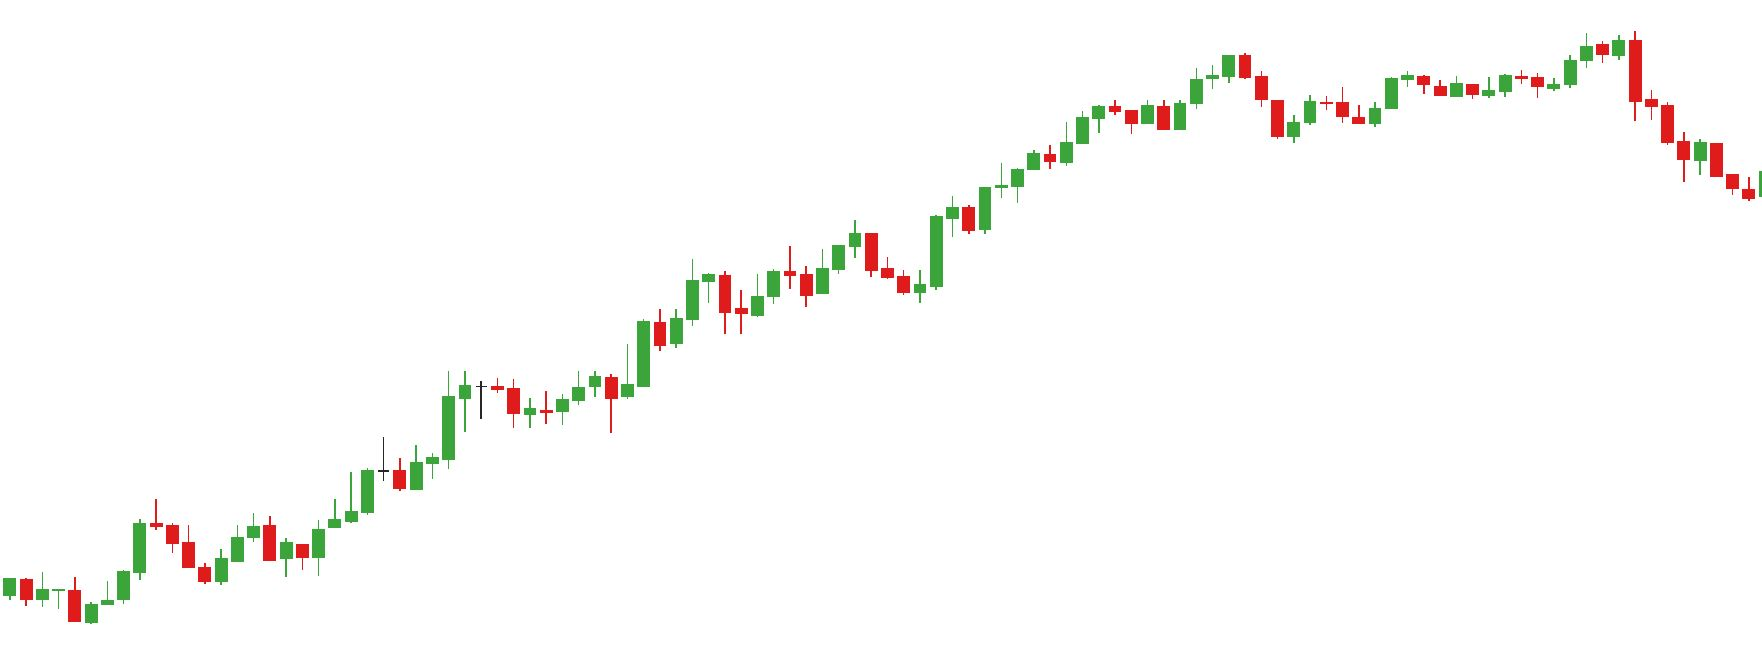buy: (1153, 77, 1302, 150)
